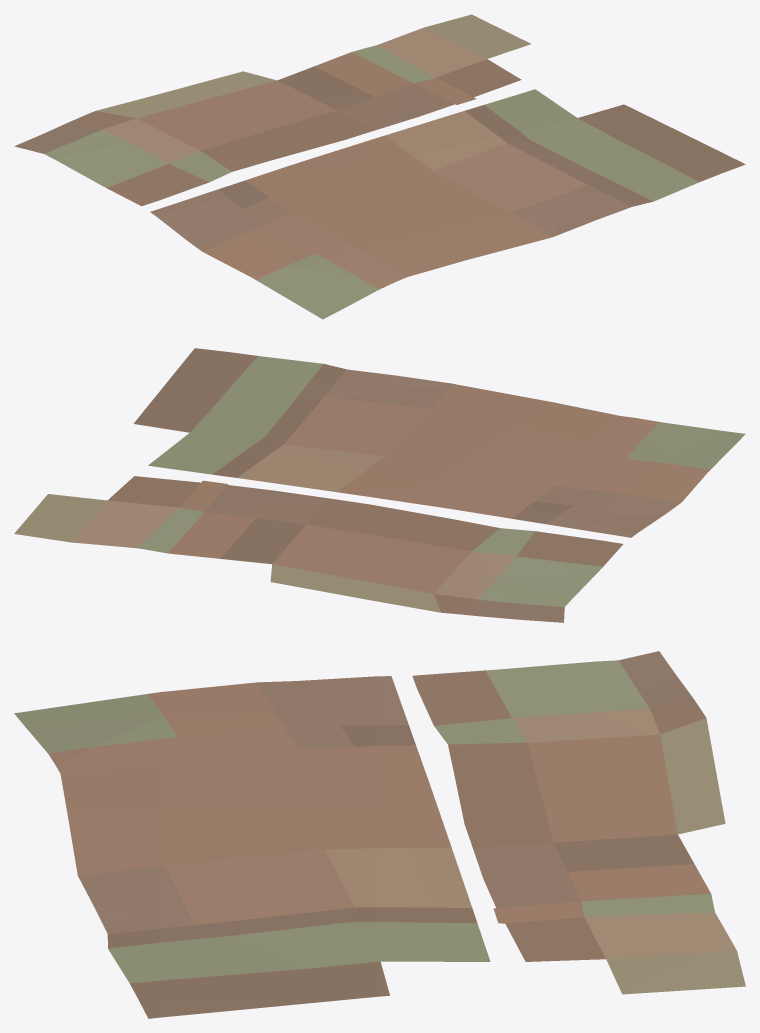
File: farm_35_30_soil.glb
3 renders of one model, top to bottom at view 1: azimuth 30°, elevation 25°; view 2: azimuth 150°, elevation 25°; view 3: azimuth 270°, elevation 25°, orthographic. The views are drawn at different scales.
Visible parts, largest first — view 1: geometry_0; view 2: geometry_0; view 3: geometry_0.
Boxes of the visible parts, box(x1,y1,x2,y2) form: geometry_0: box(14, 14, 745, 319); geometry_0: box(14, 348, 745, 622); geometry_0: box(14, 651, 745, 1018).
Bounding box in the file's own units: 307 × 7.43 × 269.
